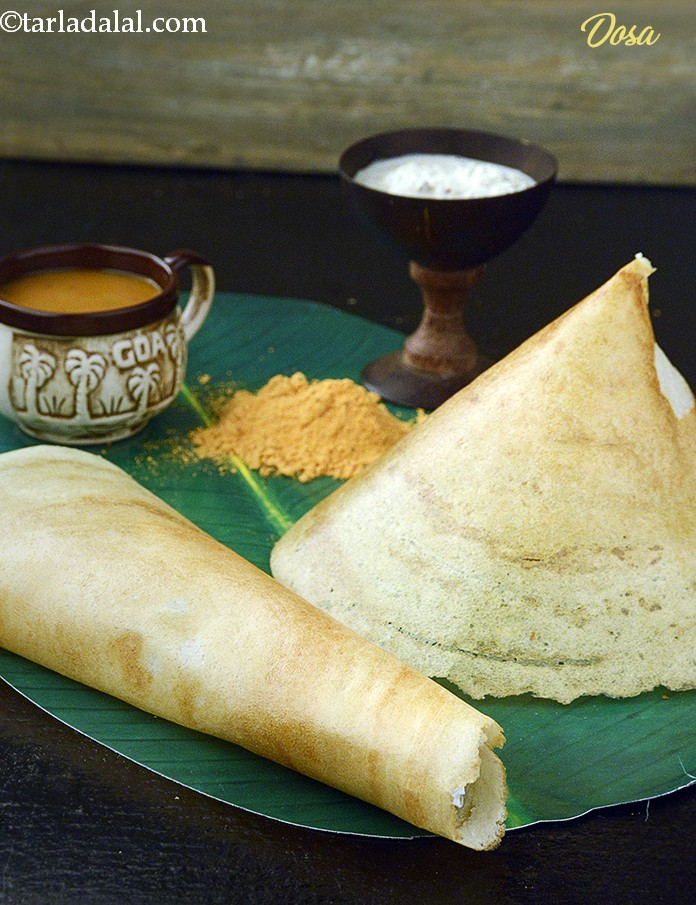dosa: (2, 246, 696, 855)
